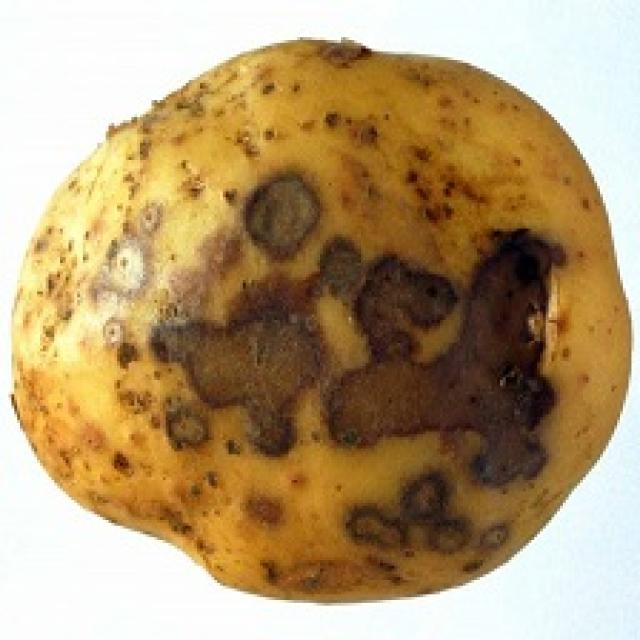black_scurf: (0, 28, 640, 612)
